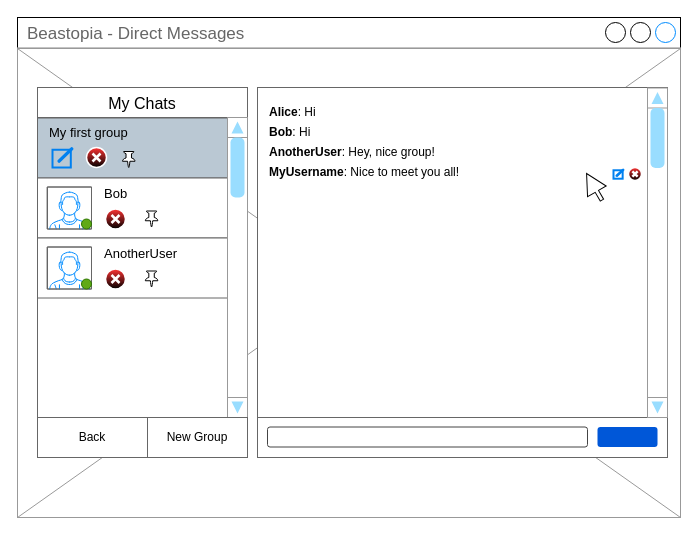
Some shapes in this 698 by 535 pixel diagram are drawn without their labels. Each missing label, with the box of its shape:
Chat input...: (266, 426, 588, 447)
Enter: (597, 426, 657, 446)
